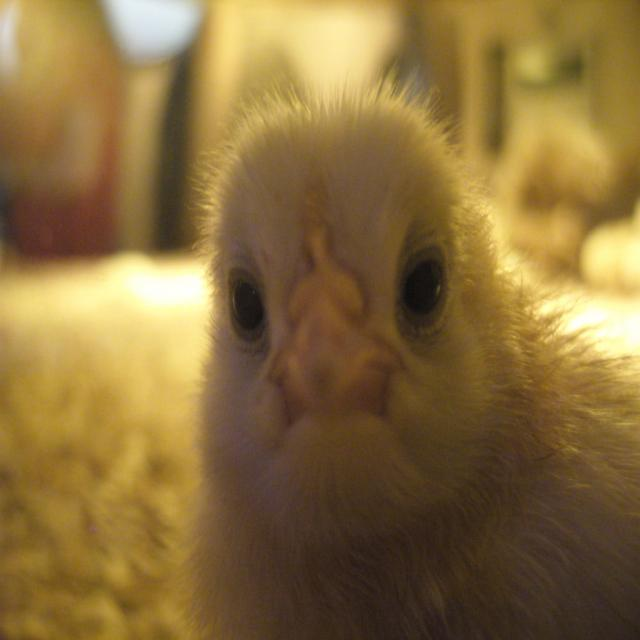Chicken: (138, 70, 632, 640)
